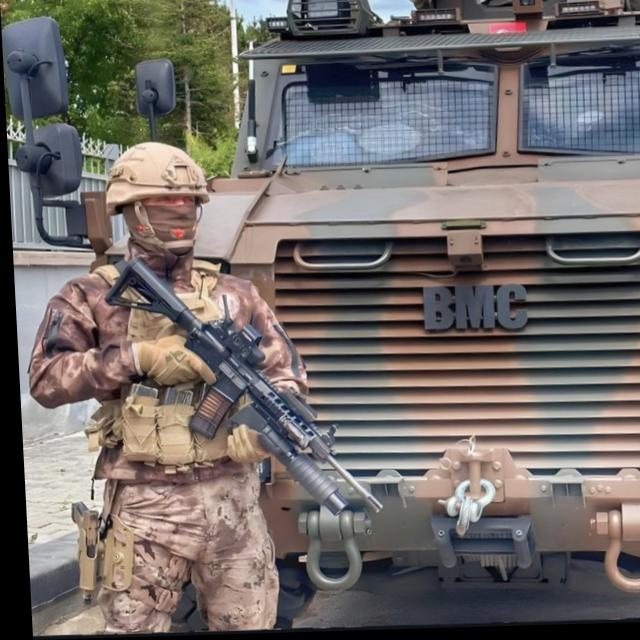poh_personel: (17, 139, 313, 633)
